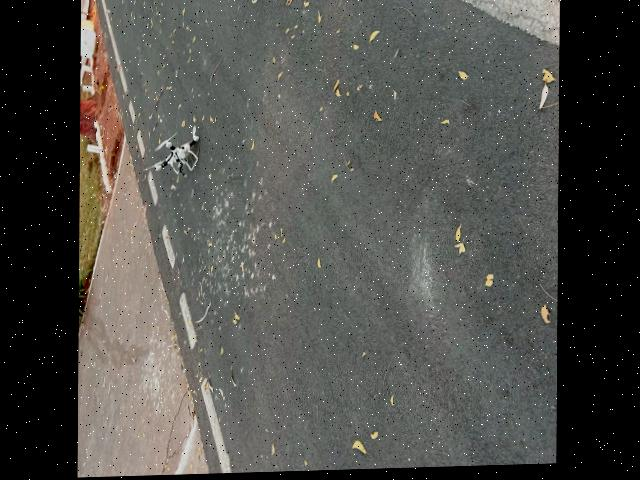drone: (123, 112, 231, 208)
